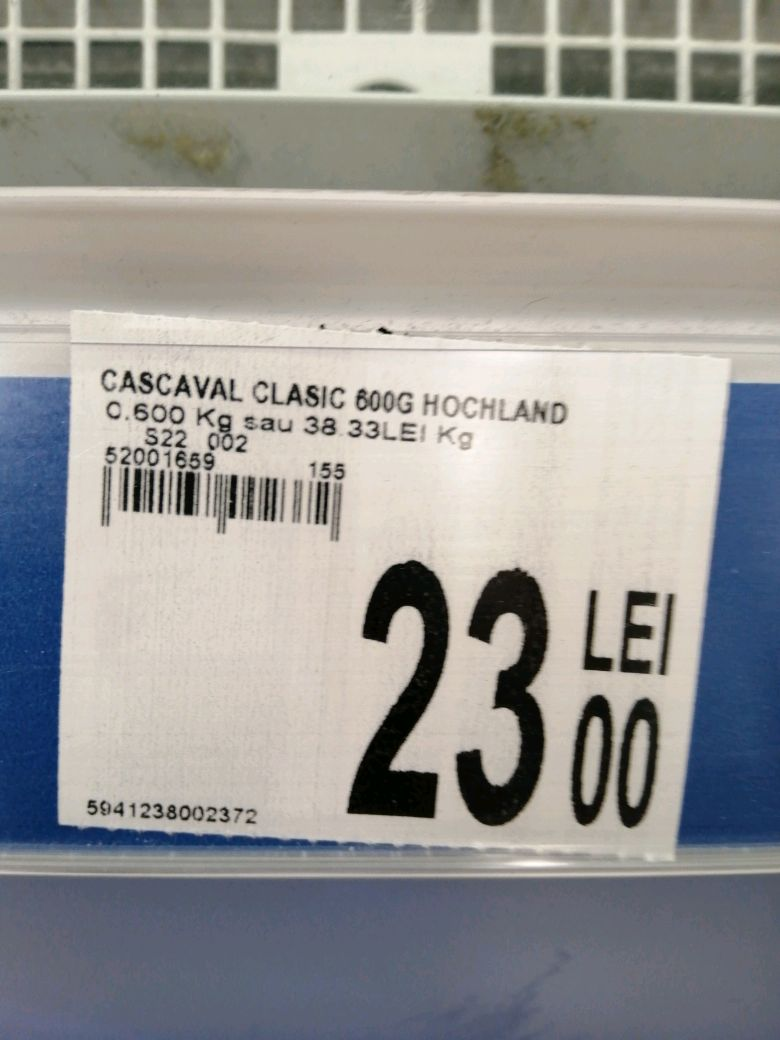price_bani: (569, 686, 669, 831)
price_lei: (343, 544, 555, 831)
price_tag: (43, 300, 735, 879)
product_id: (74, 784, 270, 831)
product_name: (81, 358, 586, 436)
